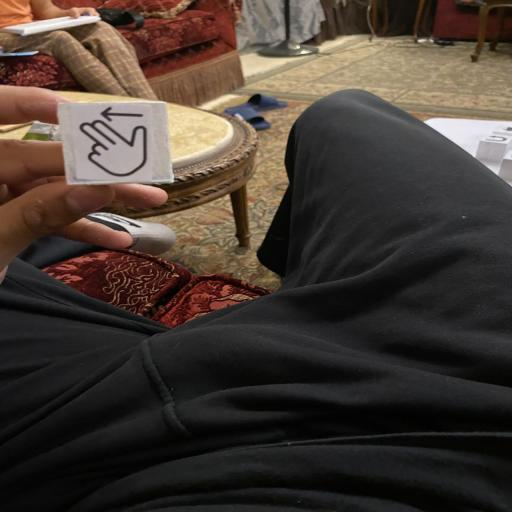LeftSwipe: (56, 100, 174, 186)
